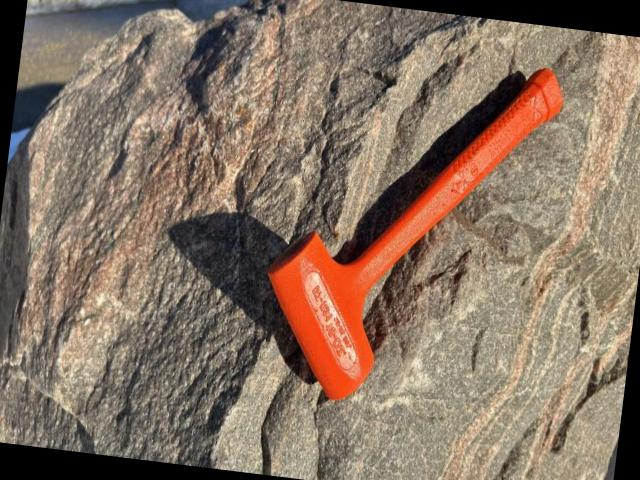hammer: (253, 38, 566, 422)
